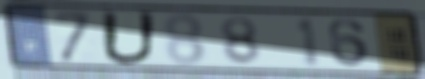1: (294, 16, 320, 69)
6: (326, 18, 372, 68)
7: (53, 11, 93, 63)
8: (160, 11, 210, 68), (217, 16, 264, 65)
U: (99, 9, 160, 67)
